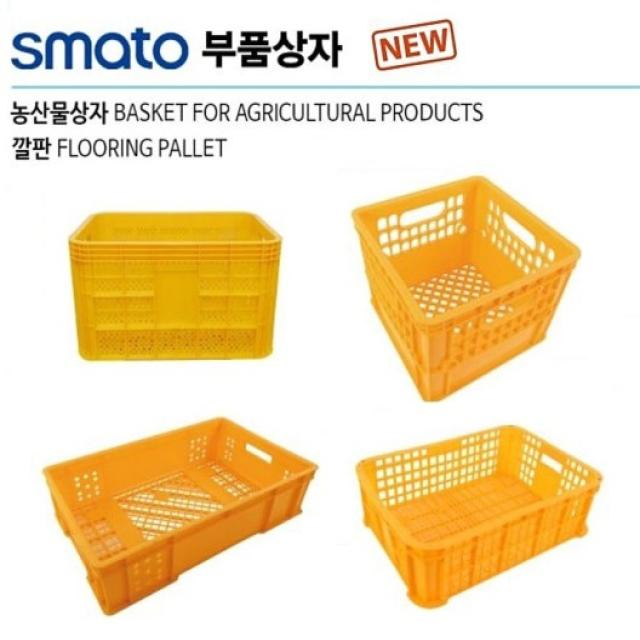basket: (326, 124, 610, 406), (31, 356, 333, 619), (341, 370, 622, 620), (69, 212, 281, 359)
